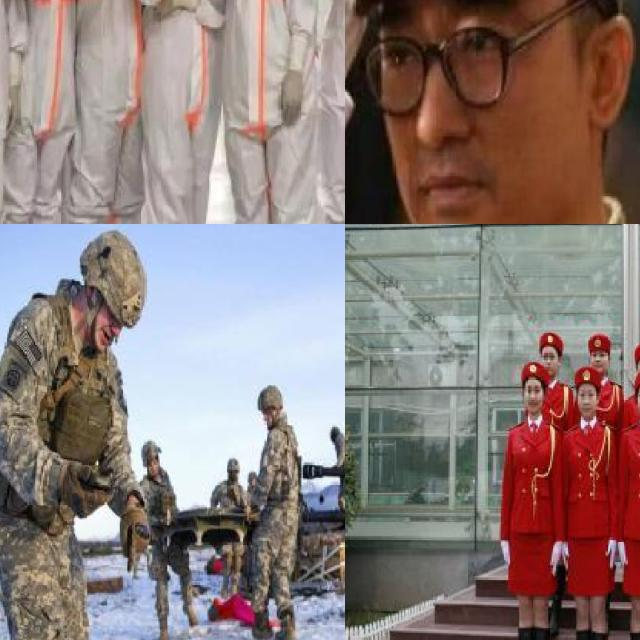No_Ear-Protection: (585, 0, 640, 138)
face_nomask: (371, 0, 584, 224), (89, 305, 121, 361), (518, 376, 545, 414), (578, 384, 598, 419)
glasses: (362, 21, 516, 121)
hand_glove: (63, 461, 115, 521), (120, 512, 149, 578), (278, 70, 304, 124), (559, 539, 572, 577), (550, 540, 562, 576), (607, 538, 618, 572), (616, 542, 627, 573), (499, 542, 512, 565)
hand_noglove: (162, 510, 172, 526), (245, 504, 252, 522)
head_helmet: (74, 230, 154, 326), (258, 382, 288, 413), (140, 438, 163, 465), (223, 461, 240, 479)
head_nohelmet: (516, 359, 550, 385), (584, 332, 615, 357), (574, 365, 600, 391), (538, 331, 565, 355), (633, 367, 640, 393), (633, 340, 640, 366)
person: (0, 230, 170, 640), (345, 0, 640, 224), (217, 379, 326, 640), (218, 0, 319, 224), (144, 0, 229, 224), (9, 0, 90, 224), (553, 354, 616, 640), (129, 433, 212, 640), (491, 354, 551, 640), (79, 0, 152, 224), (619, 362, 640, 640), (321, 416, 345, 513)
